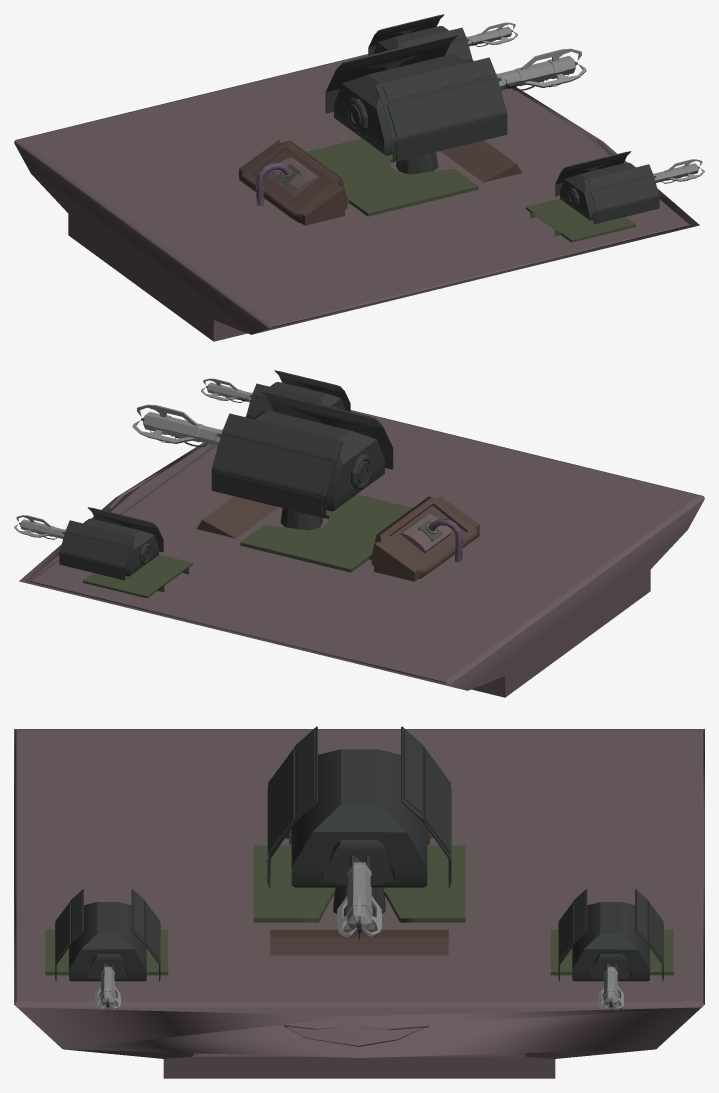
File: tanqueAGUA.fbx
3 renders of one model, top to bottom at view 1: azimuth 30°, elevation 25°; view 2: azimuth 150°, elevation 25°; view 3: azimuth 270°, elevation 25°, orthographic. The views are drawn at different scales.
Parts seen in each view (by area): view 1: Tank_Body1_Low, Barrel_Muzzle_Low, BodyRotatePlate_Low, Barrel_Muzzle_Low.001, FuelStore_Low, Barrel_Muzzle_Low.002, BodyRotatePlate_Low.001, Body_Over_Low, FuelEngine_Low; view 2: Tank_Body1_Low, Barrel_Muzzle_Low, BodyRotatePlate_Low, Barrel_Muzzle_Low.002, FuelStore_Low, Barrel_Muzzle_Low.001, BodyRotatePlate_Low.001, Body_Over_Low, FuelEngine_Low; view 3: Tank_Body1_Low, Barrel_Muzzle_Low, BodyRotatePlate_Low, Barrel_Muzzle_Low.001, Barrel_Muzzle_Low.002, Body_Over_Low, BodyRotatePlate_Low.001.
Boxes of the visible parts, box(x1,y1,x2,y2) form: Tank_Body1_Low: box(14, 54, 699, 341); Barrel_Muzzle_Low: box(325, 34, 586, 174); BodyRotatePlate_Low: box(306, 138, 478, 216); Barrel_Muzzle_Low.001: box(555, 151, 704, 224); FuelStore_Low: box(239, 139, 347, 225); Barrel_Muzzle_Low.002: box(368, 14, 517, 62); BodyRotatePlate_Low.001: box(526, 198, 635, 242); Body_Over_Low: box(440, 140, 522, 182); FuelEngine_Low: box(267, 157, 318, 197); Tank_Body1_Low: box(19, 410, 704, 697); Barrel_Muzzle_Low: box(132, 390, 393, 530); BodyRotatePlate_Low: box(240, 494, 412, 572); Barrel_Muzzle_Low.002: box(14, 507, 163, 580); FuelStore_Low: box(371, 496, 479, 581); Barrel_Muzzle_Low.001: box(201, 370, 350, 418); BodyRotatePlate_Low.001: box(83, 554, 192, 598); Body_Over_Low: box(196, 496, 278, 538); FuelEngine_Low: box(400, 513, 451, 553); Tank_Body1_Low: box(14, 729, 704, 1078); Barrel_Muzzle_Low: box(267, 726, 451, 939); BodyRotatePlate_Low: box(253, 845, 465, 922); Barrel_Muzzle_Low.001: box(55, 889, 160, 1010); Barrel_Muzzle_Low.002: box(558, 889, 663, 1010); Body_Over_Low: box(270, 929, 448, 955); BodyRotatePlate_Low.001: box(45, 929, 673, 975).
Size of the model in its own units: 9927 by 3280 by 9433.
